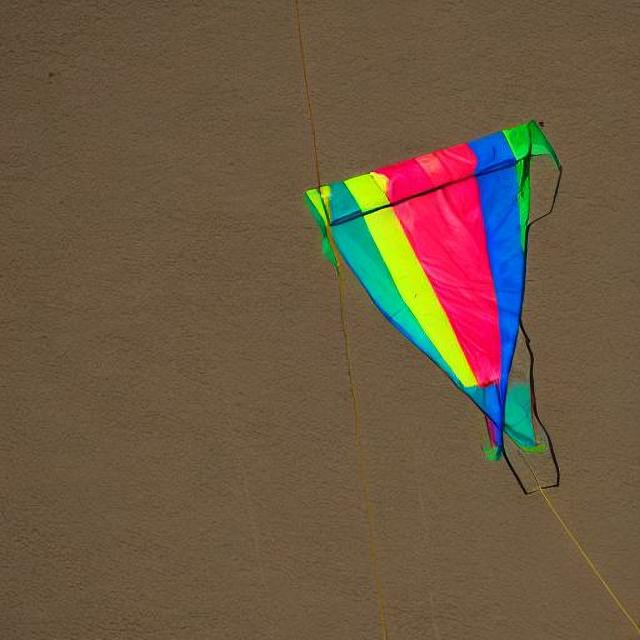floating object: (305, 118, 556, 463)
